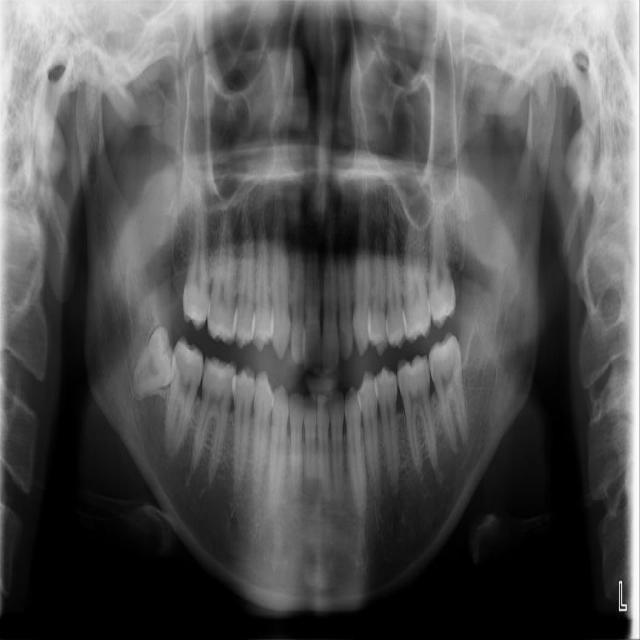impacted tooth: (128, 326, 173, 399)
